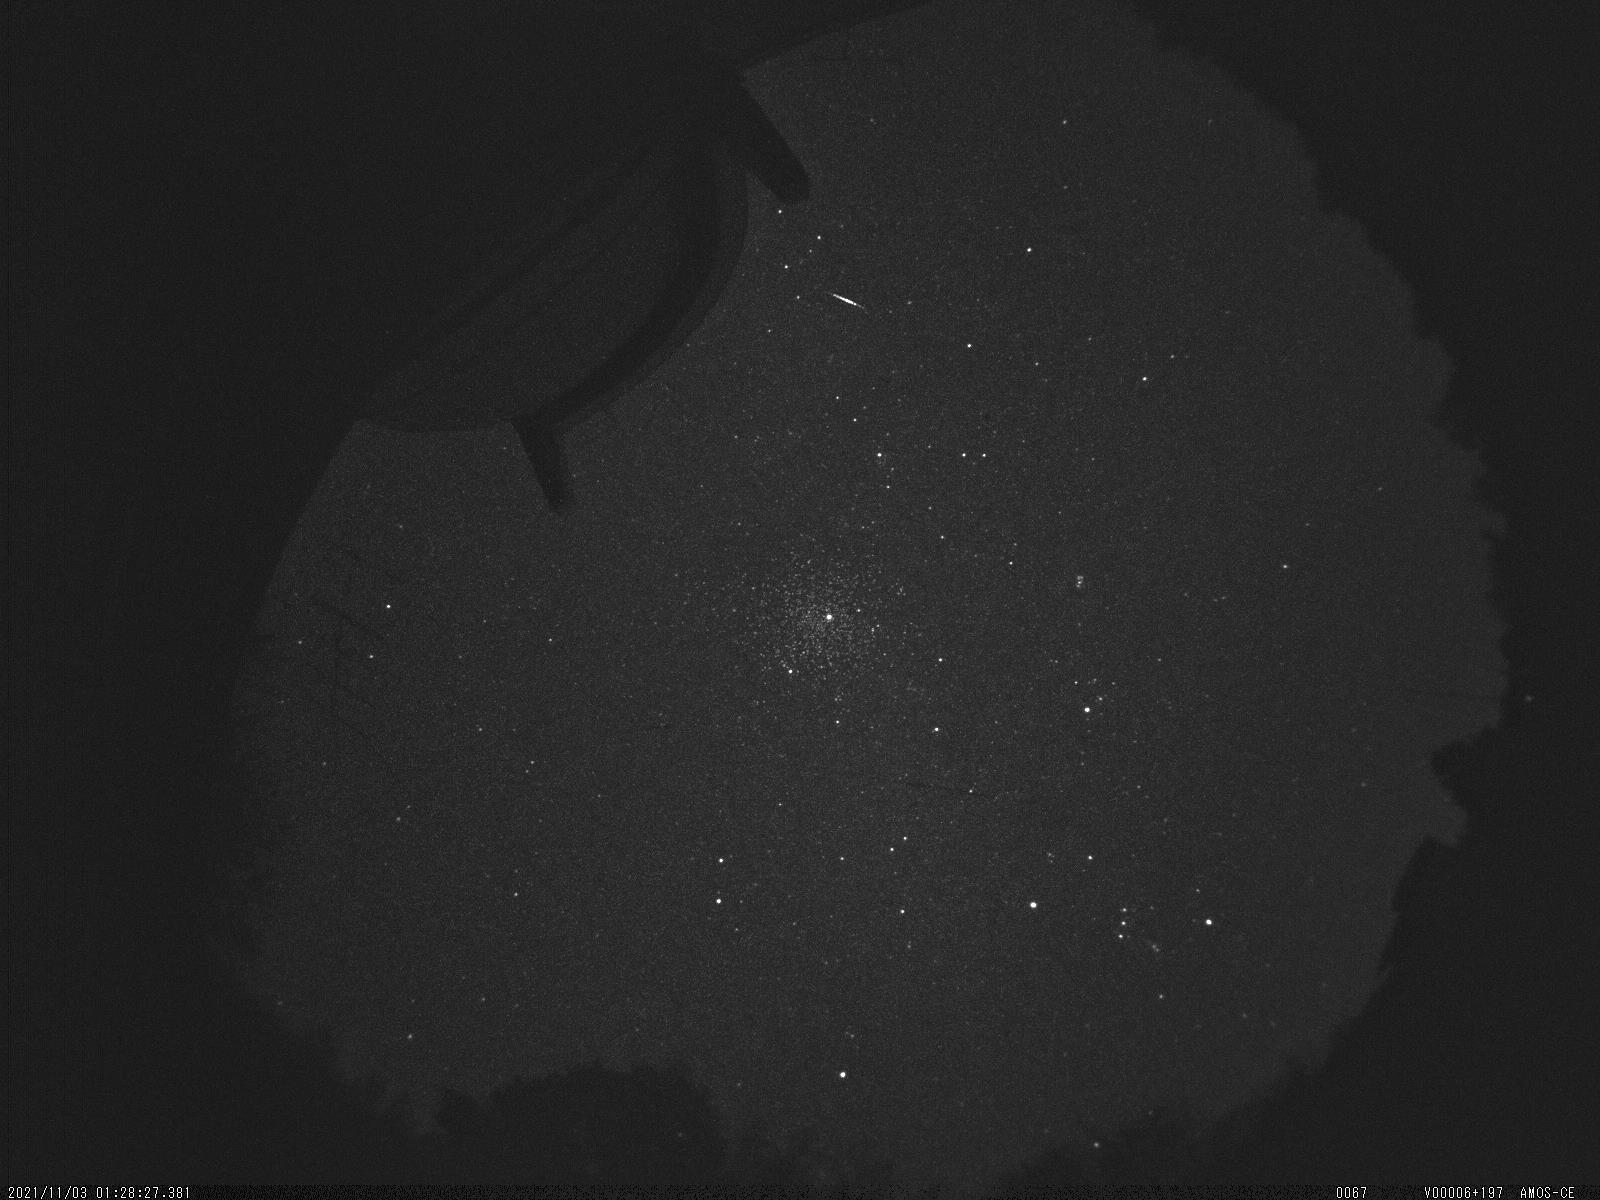Meteor: (817, 285, 870, 317)
